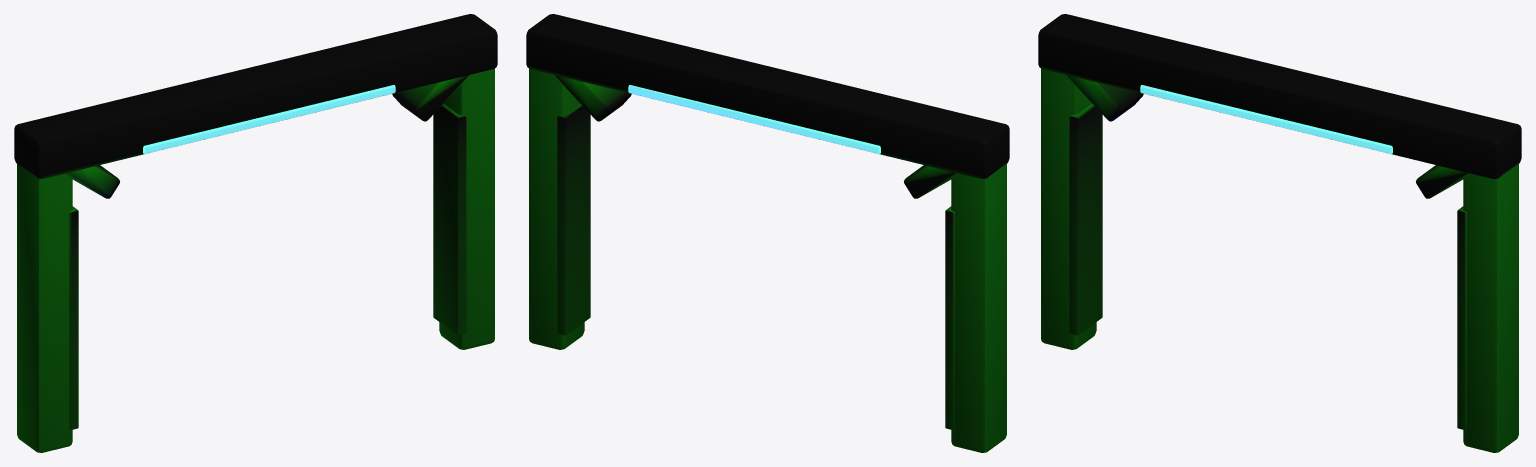
Rendered from hero_door_arch_trim.glb.
3 renders of one model, left to right at view 1: azimuth 30°, elevation 25°; view 2: azimuth 150°, elevation 25°; view 3: azimuth 330°, elevation 25°, orthographic.
Visible parts, largest first — view 1: HeroDoorArchTrim; view 2: HeroDoorArchTrim; view 3: HeroDoorArchTrim.
Part boxes in pixels (bbox=[...]): HeroDoorArchTrim: bbox=[14, 14, 497, 452]; HeroDoorArchTrim: bbox=[526, 14, 1009, 452]; HeroDoorArchTrim: bbox=[1038, 14, 1521, 452].
Size of the model in its own units: 5.85 by 3.81 by 0.62.
